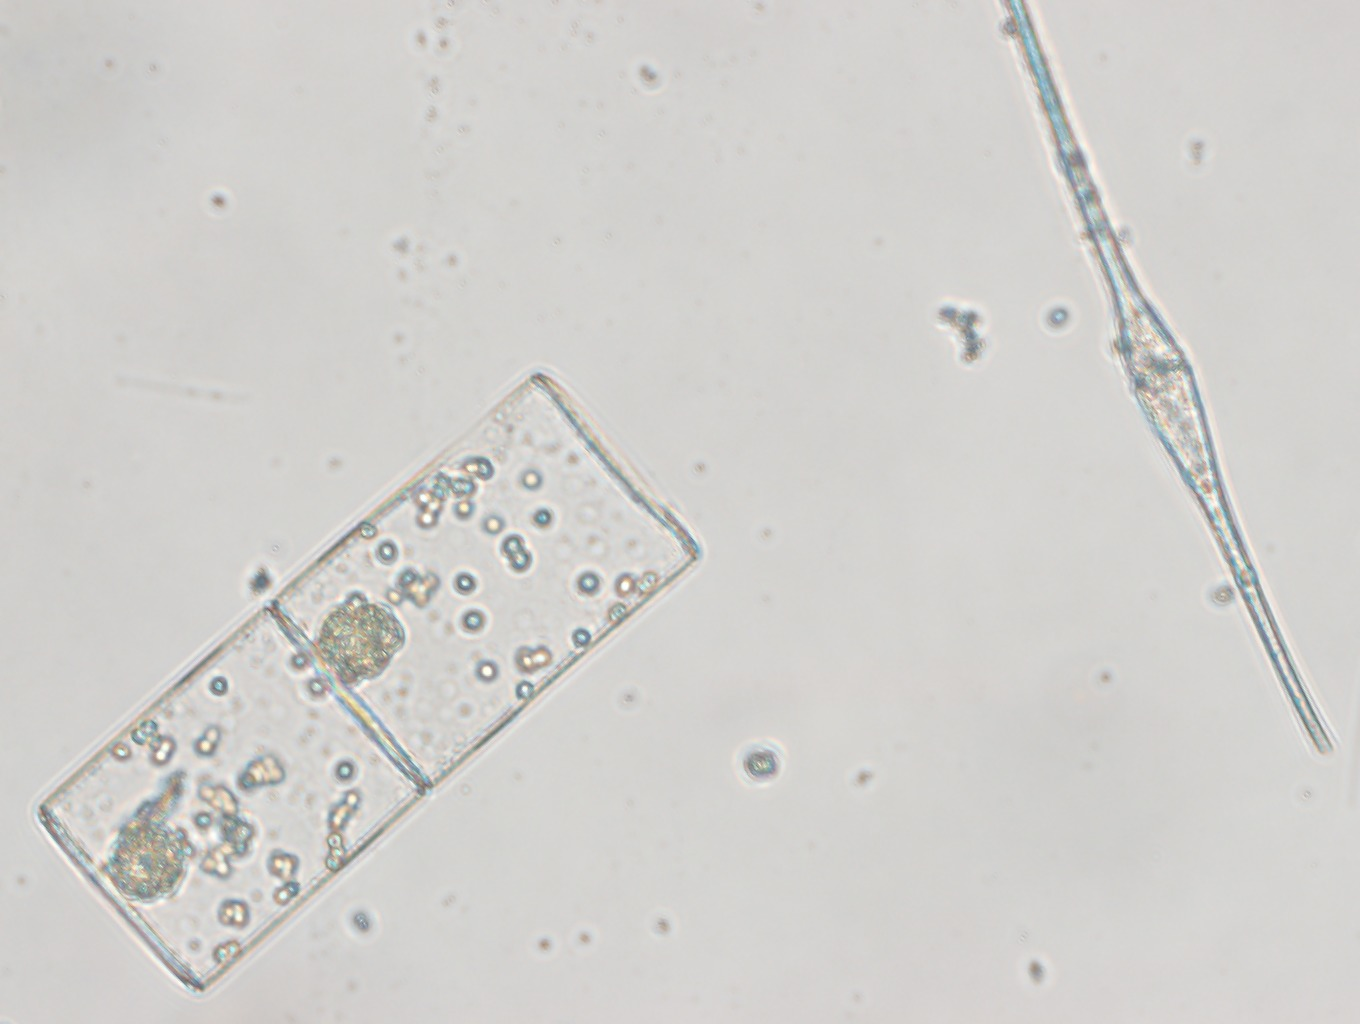ceratium fusus: (999, 1, 1343, 766)
guinardia flaccida: (29, 362, 704, 994)
